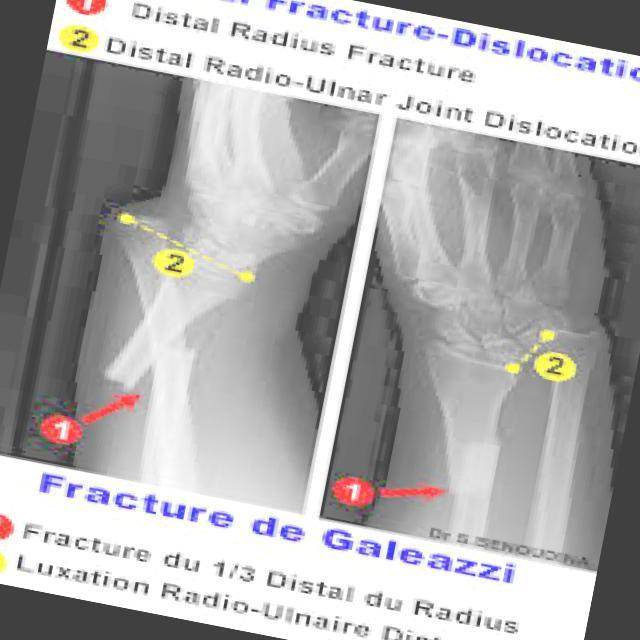Fracture Dislocation: (122, 321, 208, 393), (524, 311, 594, 367)
